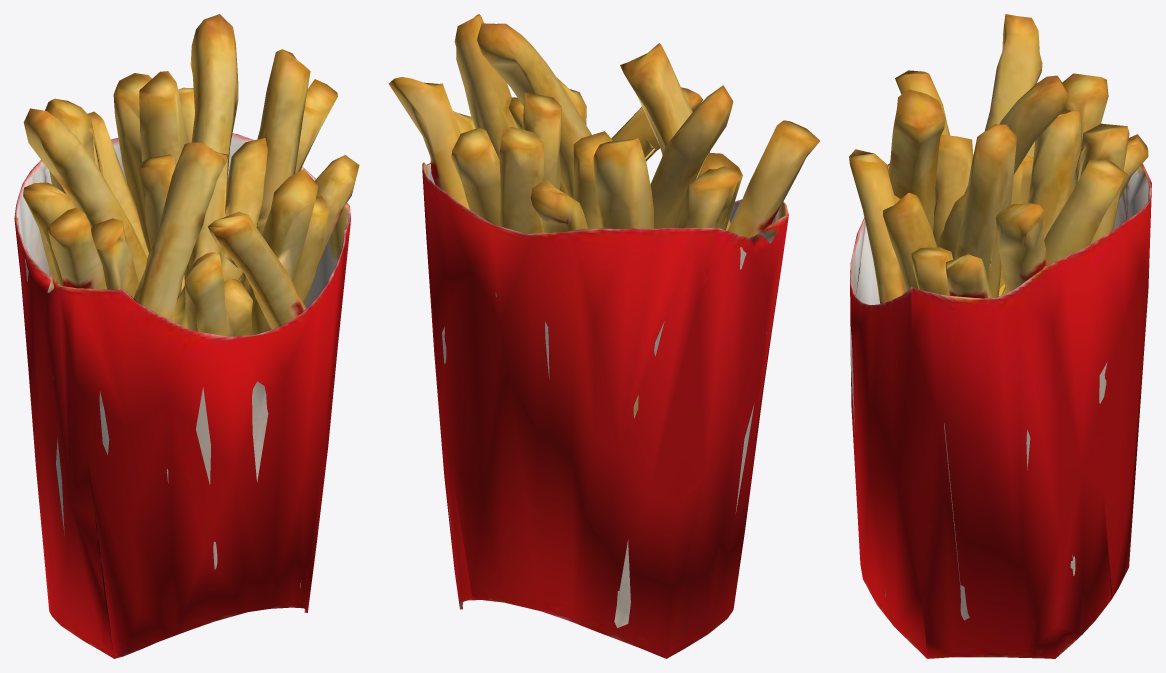
The model's file is food-fries-phone.glb.
The picture shows the model from 3 angles, left to right: view 1: azimuth 30°, elevation 25°; view 2: azimuth 150°, elevation 25°; view 3: azimuth 270°, elevation 25°; orthographic projection. The views are drawn at different scales.
Parts seen in each view (by area): view 1: Model; view 2: Model; view 3: Model.
Part boxes in pixels (left/top/right/bottom): Model: left=14, top=14, right=359, bottom=658; Model: left=388, top=14, right=819, bottom=658; Model: left=849, top=14, right=1151, bottom=658.
Size of the model in its own units: 1.23 by 1.9 by 0.9247.
Materials: 1 (1 with a texture image).
